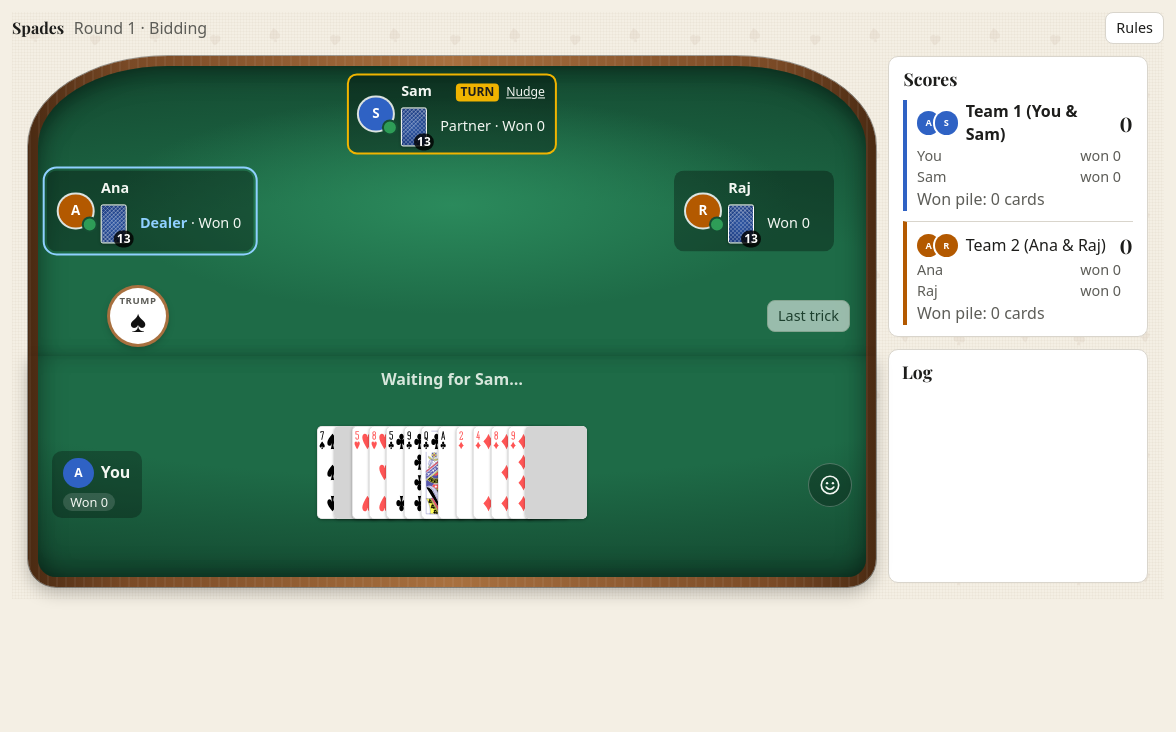
Test case: quick reactions › sends one from the React button, then rests a moment
Click the button named "React" at [830, 484], box x1=808 y1=462 x2=852 y2=506
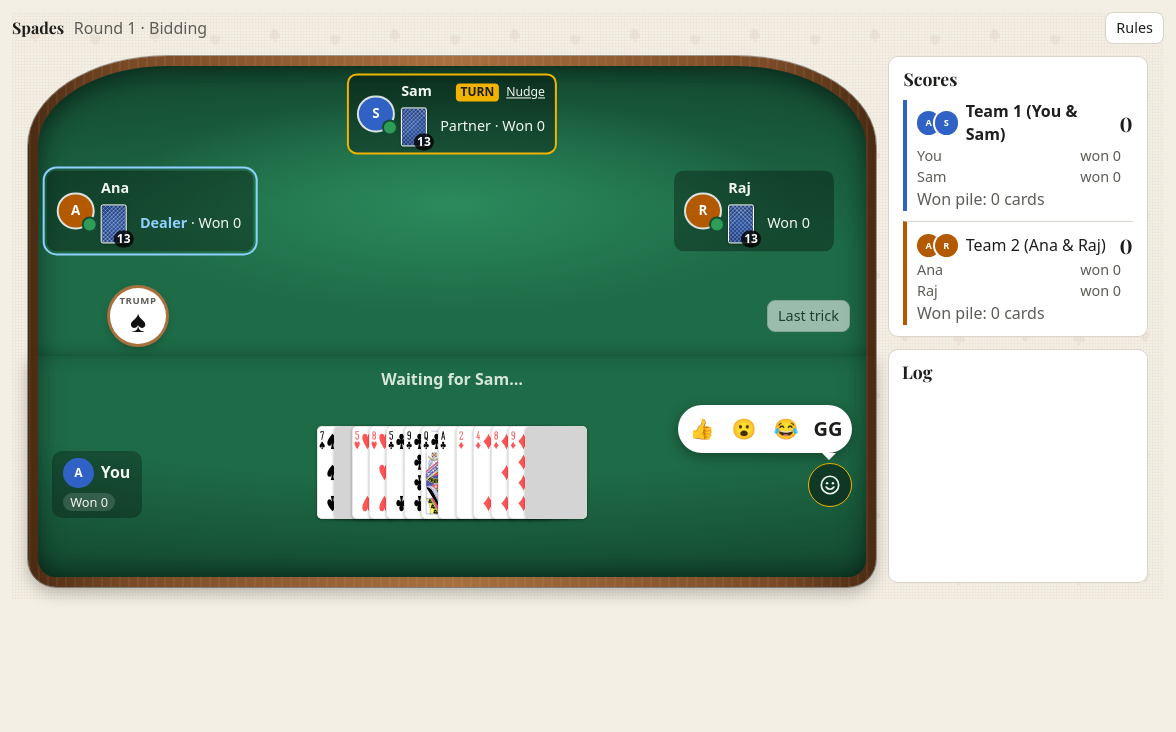
Now the buttons read "👍", "😮", "😂", "GG", in this order
Click the button named "Laughing" at [786, 428], box x1=766 y1=408 x2=806 y2=448
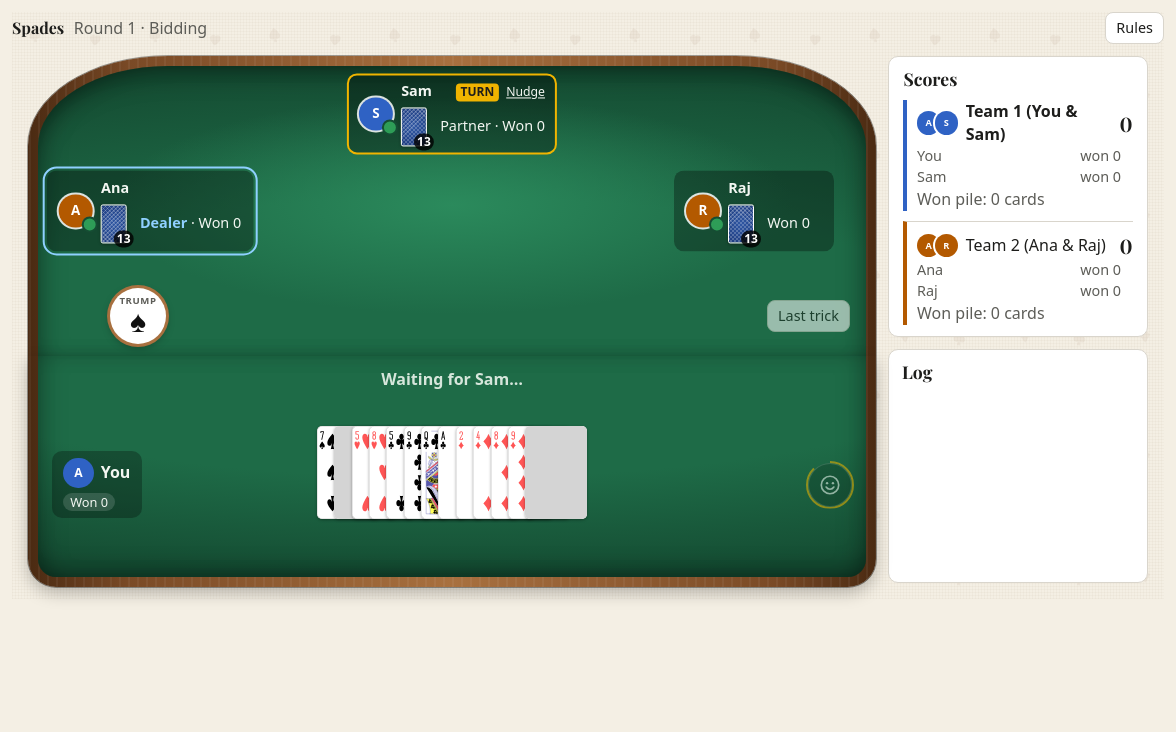
Now the text "👍 😮 😂 GG" is gone
Now the button named "React" is disabled, box x1=808 y1=462 x2=852 y2=506
